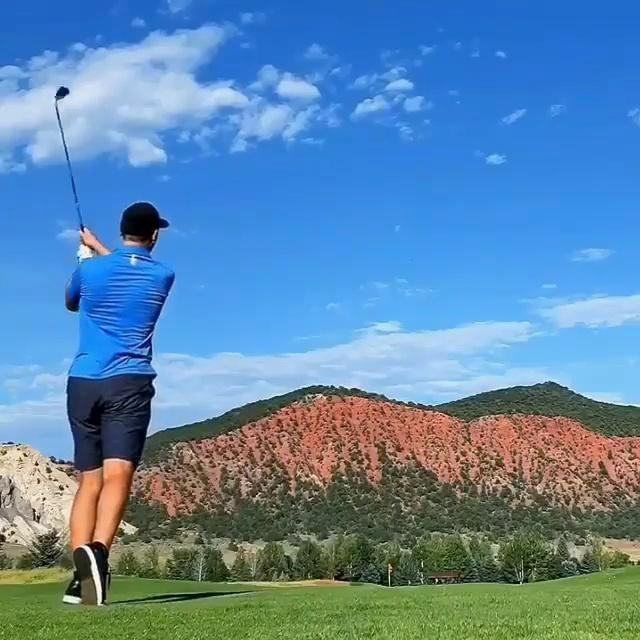golf club-handle: (54, 85, 84, 230)
golf club-head: (54, 85, 69, 100)
